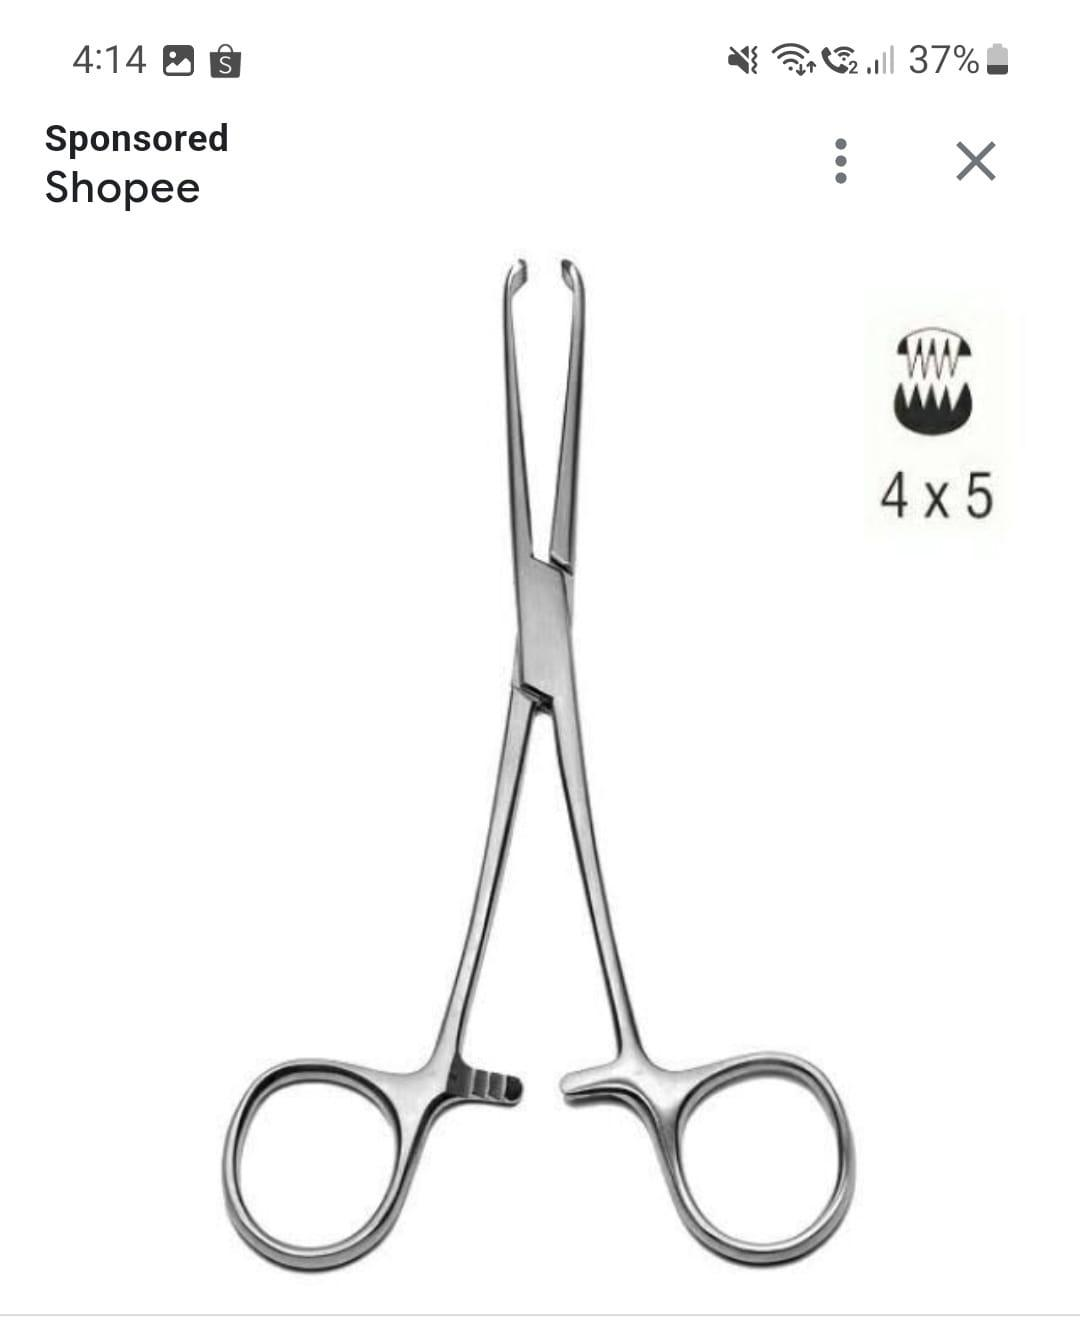Allis Forceps: (208, 218, 858, 1280)
